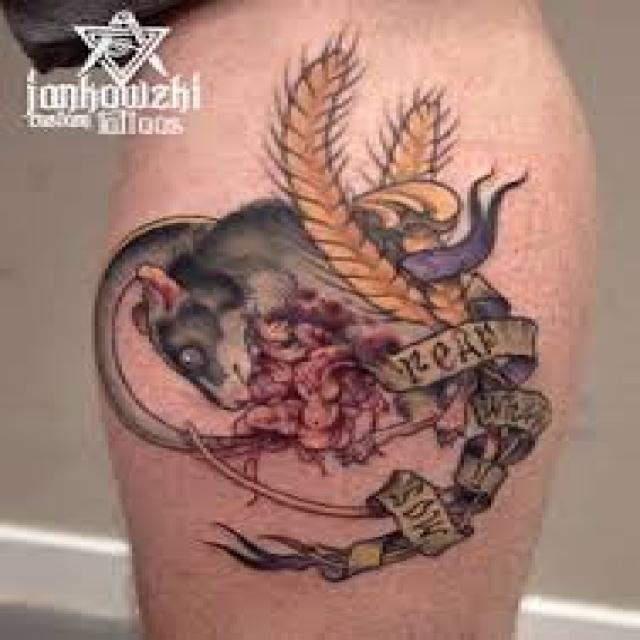Rat: (138, 158, 264, 413)
